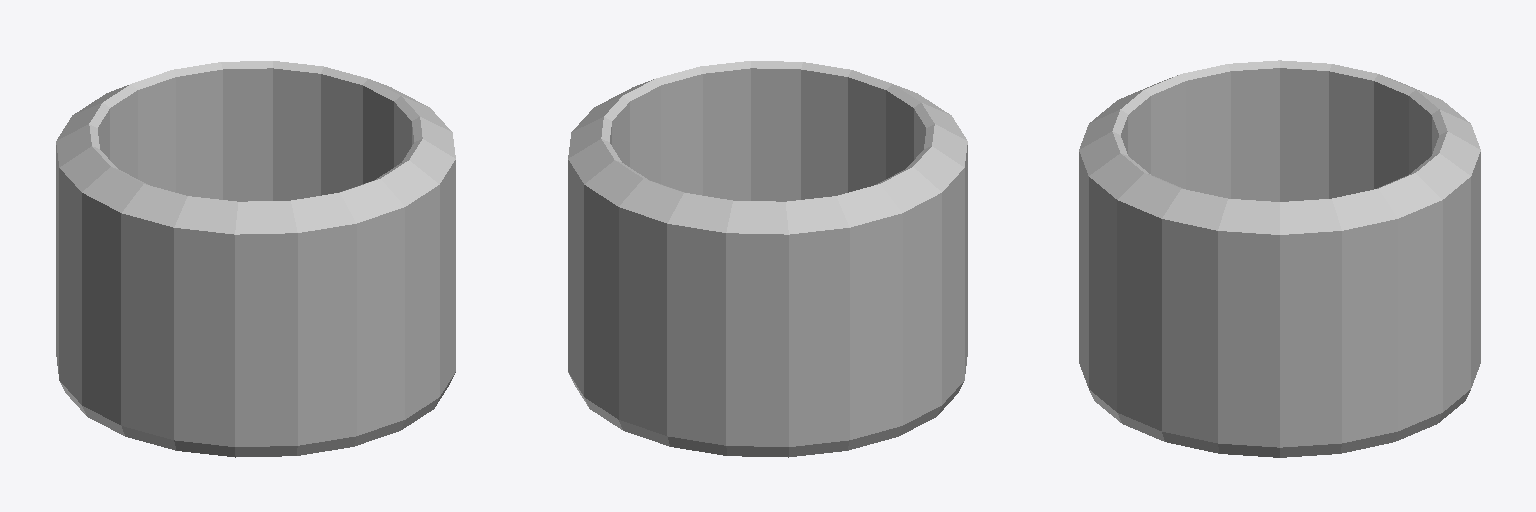
Rendered from Vaso2.obj.
The picture shows the model from 3 angles: view 1: azimuth 30°, elevation 25°; view 2: azimuth 150°, elevation 25°; view 3: azimuth 270°, elevation 25°; orthographic projection.
Parts seen in each view (by area): view 1: Vaso_pCylinder2; view 2: Vaso_pCylinder2; view 3: Vaso_pCylinder2.
Part boxes in pixels (bbox=[...]): Vaso_pCylinder2: bbox=[56, 61, 455, 457]; Vaso_pCylinder2: bbox=[568, 61, 967, 457]; Vaso_pCylinder2: bbox=[1079, 60, 1480, 457].
Bounding box in the file's own units: 0.3286 × 0.225 × 0.3286.